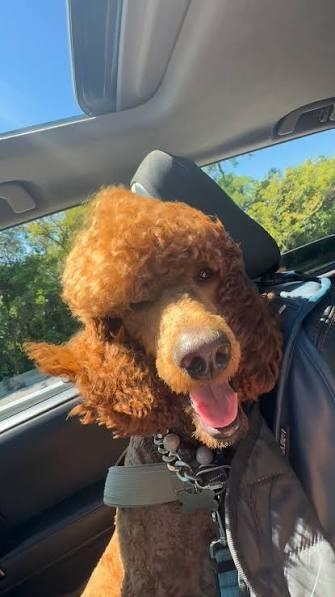adult_dog: (25, 184, 289, 597)
